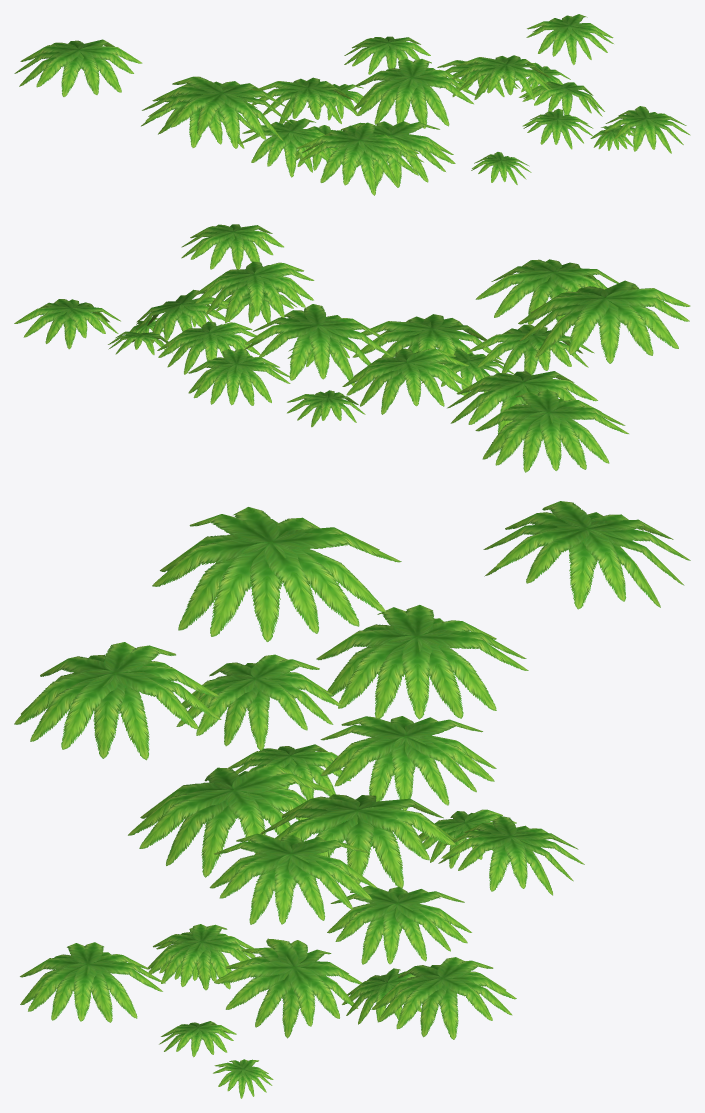
File: PalmsCrownsRightShape.dae
3 views of the same model, one above another, from view 1: azimuth 30°, elevation 25°; view 2: azimuth 150°, elevation 25°; view 3: azimuth 270°, elevation 25° (orthographic). The views are drawn at different scales.
Parts seen in each view (by area): view 1: PalmsCrownsRight; view 2: PalmsCrownsRight; view 3: PalmsCrownsRight.
Part boxes in pixels (box(x1,y1,x2,y2)): PalmsCrownsRight: box(14, 14, 690, 195); PalmsCrownsRight: box(14, 224, 690, 472); PalmsCrownsRight: box(14, 501, 690, 1098).
Size of the model in its own units: 94.01 by 23.19 by 61.43.
